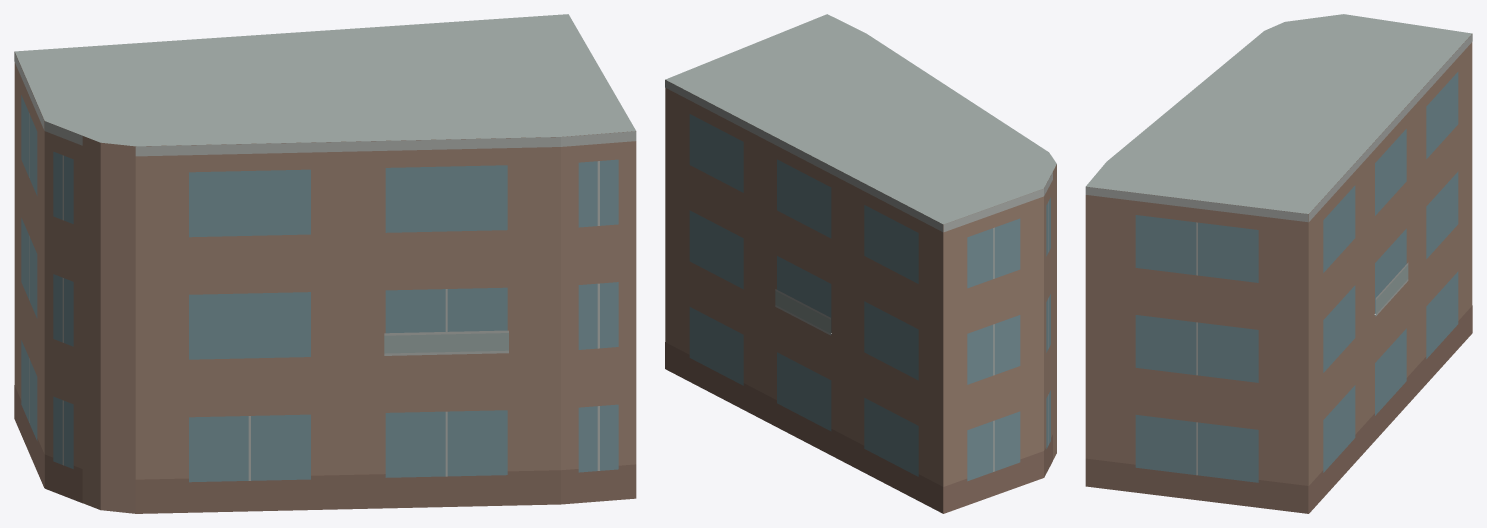
File: survey-upis-32503433.glb
The picture shows the model from 3 angles, left to right: view 1: azimuth 30°, elevation 25°; view 2: azimuth 150°, elevation 25°; view 3: azimuth 270°, elevation 25°; orthographic projection. The views are drawn at different scales.
Visible parts, largest first — view 1: survey-upis-32503433.tmp; view 2: survey-upis-32503433.tmp; view 3: survey-upis-32503433.tmp.
Part boxes in pixels (x1=…): survey-upis-32503433.tmp: x1=14, y1=14, x2=636, y2=513; survey-upis-32503433.tmp: x1=665, y1=14, x2=1056, y2=513; survey-upis-32503433.tmp: x1=1085, y1=14, x2=1472, y2=513.
Bounding box in the file's own units: 12.75 × 8.9 × 10.42.
